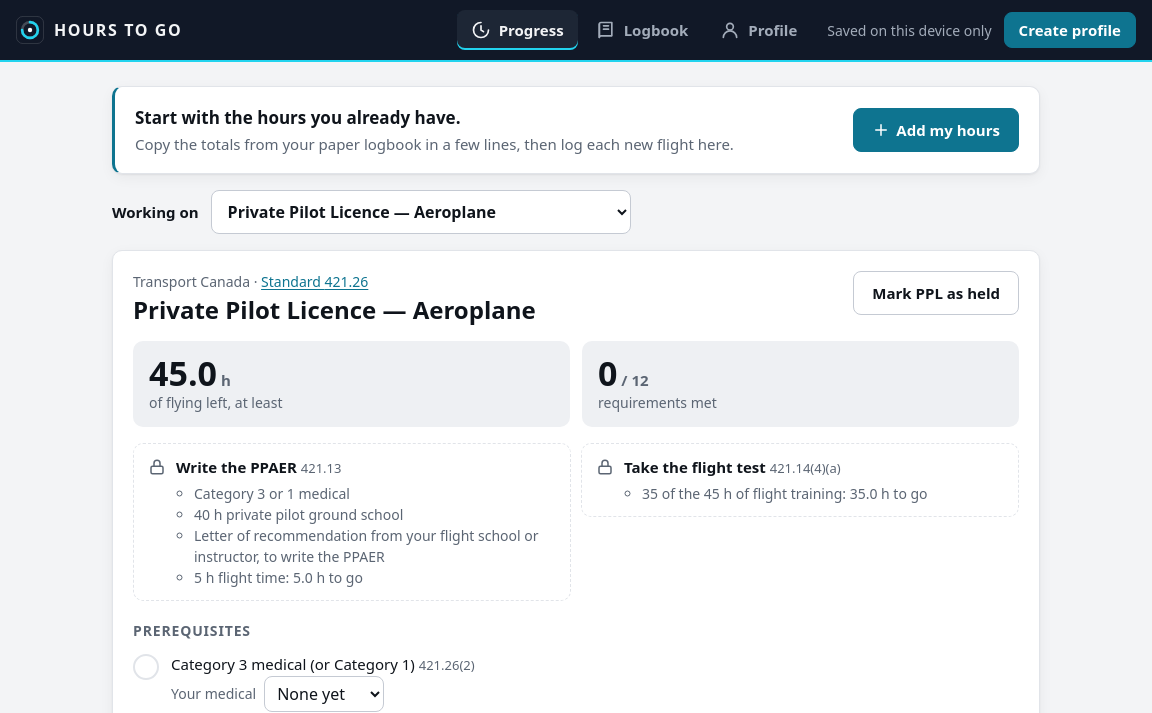
Test: the app as a guest › says under each written exam whether you can write it yet
Select "Instrument Rating — Group 3" in the dropdown labelled "Working on". click: (421, 212)
box: [211,190,631,234]
(page scrolled)
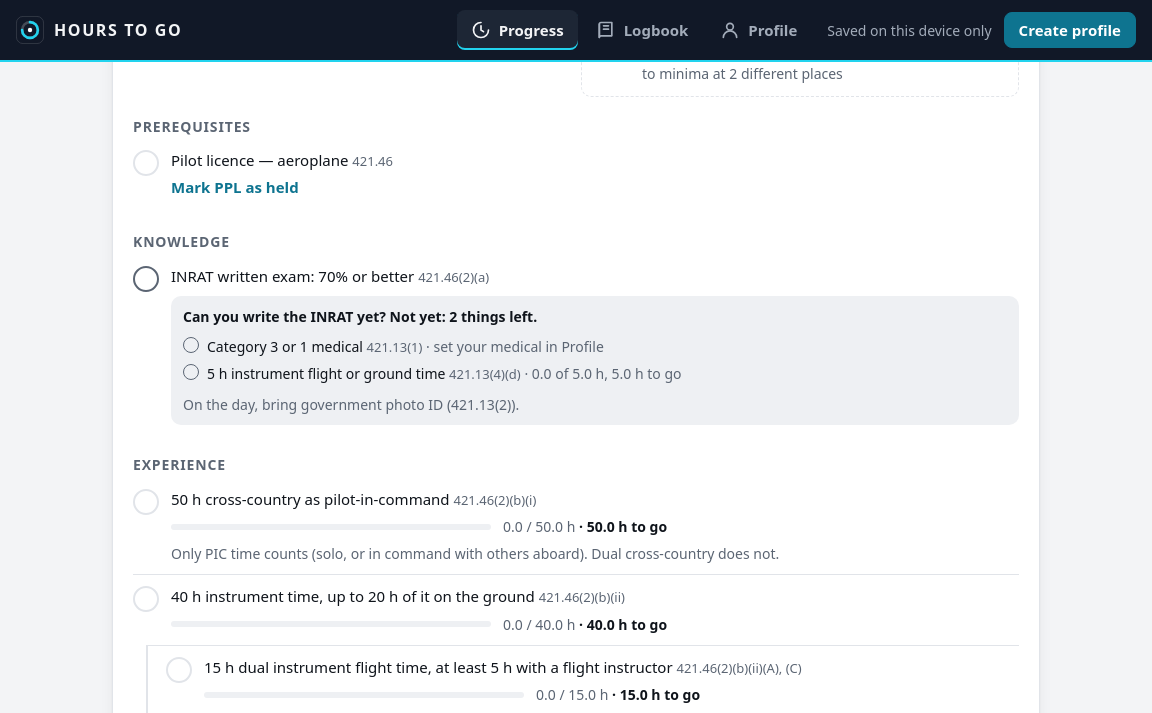
Expected: the text "Can you write the INRAT yet? Not yet: 2 things left." is shown, [183,307,537,326]
Expected: the list named "To write the INRAT" shows "5 h instrument flight or ground time", [207,364,445,383]
Expected: the list item "To write the INRAT" no longer shows "Letter of recommendation"
